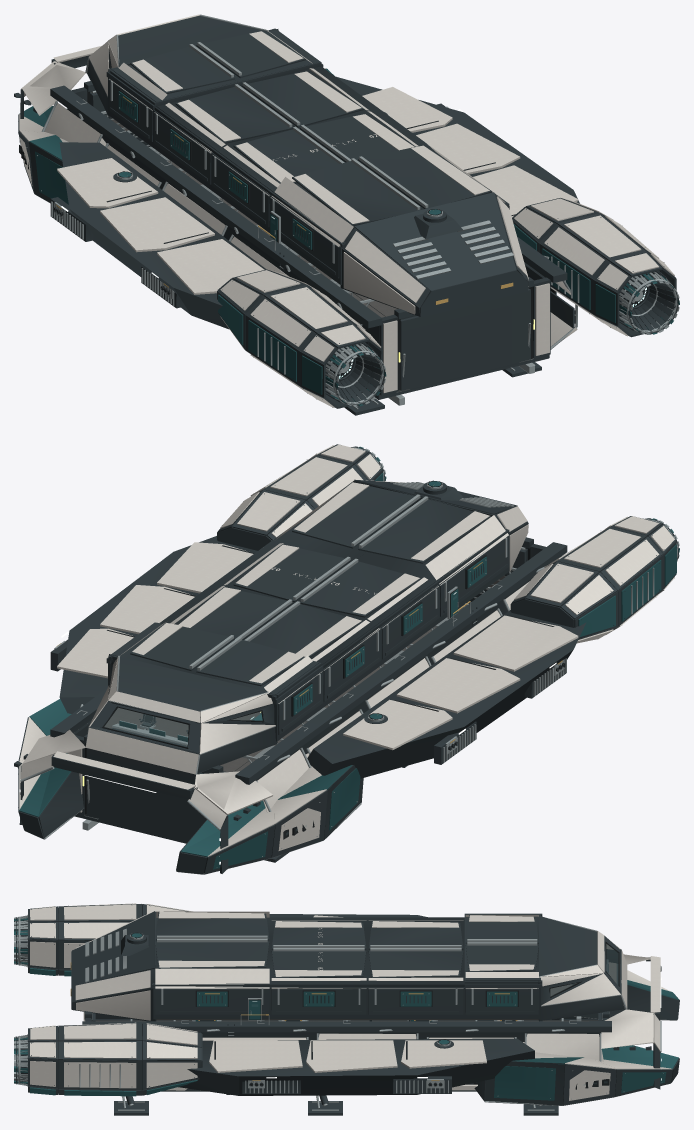
Rendered from atlas-mark-ii-lod2.glb.
The picture shows the model from 3 angles, top to bottom: view 1: azimuth 30°, elevation 25°; view 2: azimuth 150°, elevation 25°; view 3: azimuth 270°, elevation 25°; orthographic projection. The views are drawn at different scales.
Visible parts, largest first — view 1: UpperHull_dark, ExteriorStructure_dark, ExteriorStructure_ivory, AftEngineering_dark, UpperHull_ivory, RampAft_dark, PortDrive_ivory, StarboardDrive_ivory, PortDrive_dark, StarboardDrive_dark, AftEngineering_ivory, PressureBridge_dark (+15 smaller); view 2: UpperHull_dark, ExteriorStructure_dark, ExteriorStructure_ivory, UpperHull_ivory, PressureBridge_dark, PortDrive_ivory, PressureBridge_ivory, RampFront_dark, StarboardDrive_ivory, LoadingBow_ivory, PortDrive_dark, PortBowCheek_petrol (+17 smaller); view 3: UpperHull_dark, ExteriorStructure_dark, ExteriorStructure_ivory, UpperHull_ivory, StarboardDrive_ivory, PressureBridge_dark, AftEngineering_dark, StarboardBowCheek_petrol, PortDrive_ivory, StarboardDrive_dark, UpperHull_steel, AftEngineering_ivory (+18 smaller).
Boxes of the visible parts, <box> form: UpperHull_dark: <box>106,28,509,278</box>; ExteriorStructure_dark: <box>50,76,579,415</box>; ExteriorStructure_ivory: <box>44,87,578,392</box>; AftEngineering_dark: <box>340,192,528,316</box>; UpperHull_ivory: <box>109,29,505,246</box>; RampAft_dark: <box>400,288,530,390</box>; PortDrive_ivory: <box>220,270,381,407</box>; StarboardDrive_ivory: <box>514,198,674,336</box>; PortDrive_dark: <box>217,269,385,408</box>; StarboardDrive_dark: <box>512,198,678,337</box>; AftEngineering_ivory: <box>343,196,528,314</box>; PressureBridge_dark: <box>87,15,278,118</box>; UpperHull_dark: <box>106,482,509,734</box>; ExteriorStructure_dark: <box>50,533,586,862</box>; ExteriorStructure_ivory: <box>57,542,578,812</box>; UpperHull_ivory: <box>120,482,508,703</box>; PressureBridge_dark: <box>89,654,278,773</box>; PortDrive_ivory: <box>514,516,674,643</box>; PressureBridge_ivory: <box>85,656,275,774</box>; RampFront_dark: <box>86,748,206,840</box>; StarboardDrive_ivory: <box>220,444,381,537</box>; LoadingBow_ivory: <box>20,729,272,828</box>; PortDrive_dark: <box>510,516,678,641</box>; PortBowCheek_petrol: <box>181,765,360,869</box>; UpperHull_dark: <box>152,911,542,1014</box>; ExteriorStructure_dark: <box>82,914,611,1115</box>; ExteriorStructure_ivory: <box>83,915,603,1090</box>; UpperHull_ivory: <box>155,911,538,988</box>; StarboardDrive_ivory: <box>30,1022,197,1088</box>; PressureBridge_dark: <box>538,916,624,1021</box>; AftEngineering_dark: <box>71,911,156,1021</box>; StarboardBowCheek_petrol: <box>494,1045,678,1100</box>; PortDrive_ivory: <box>30,903,192,967</box>; StarboardDrive_dark: <box>16,1023,202,1095</box>; UpperHull_steel: <box>157,935,537,1020</box>; AftEngineering_ivory: <box>75,913,150,1020</box>.
Bounding box in the file's own units: 35.72 × 14.61 × 61.79.
Materials: 13 (2 with a texture image).
